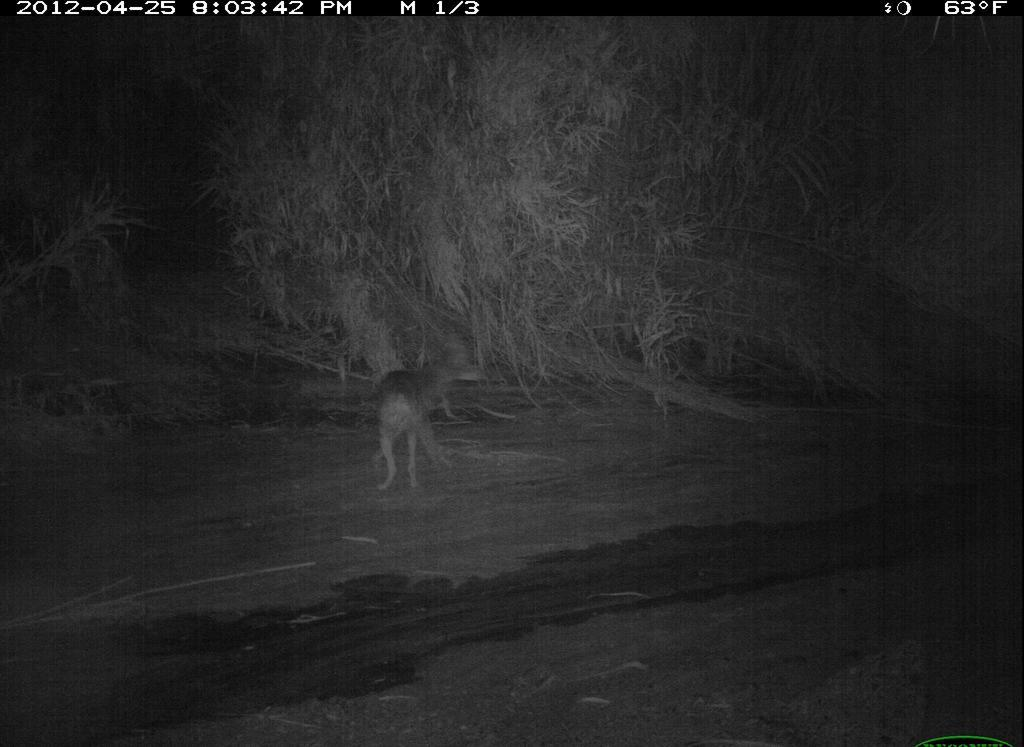coyote: (364, 341, 495, 496)
